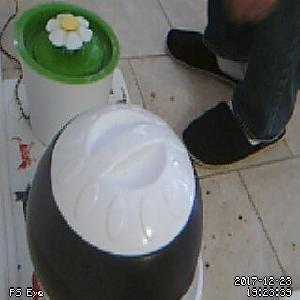fountain: (15, 3, 122, 85)
